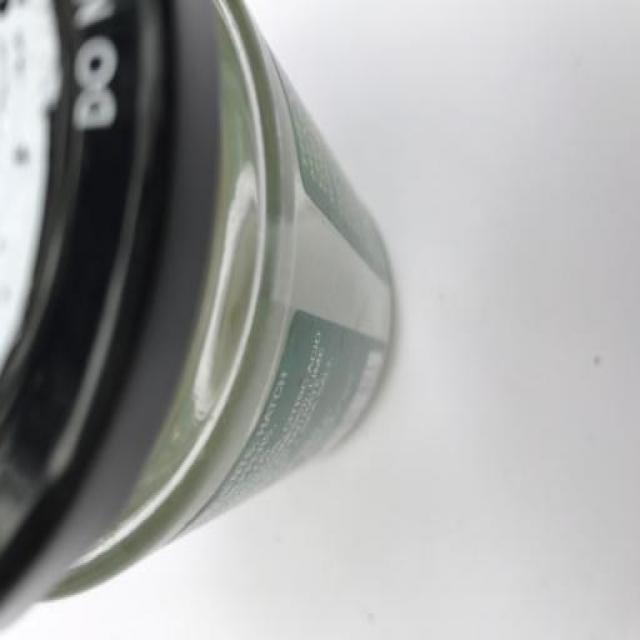Waste: (0, 2, 395, 626)
